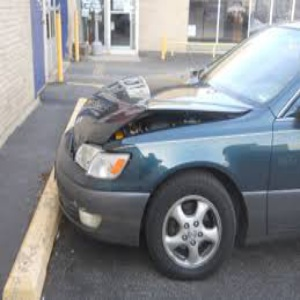bonnet: (78, 82, 155, 138)
bumper_scratch: (75, 187, 148, 247)
